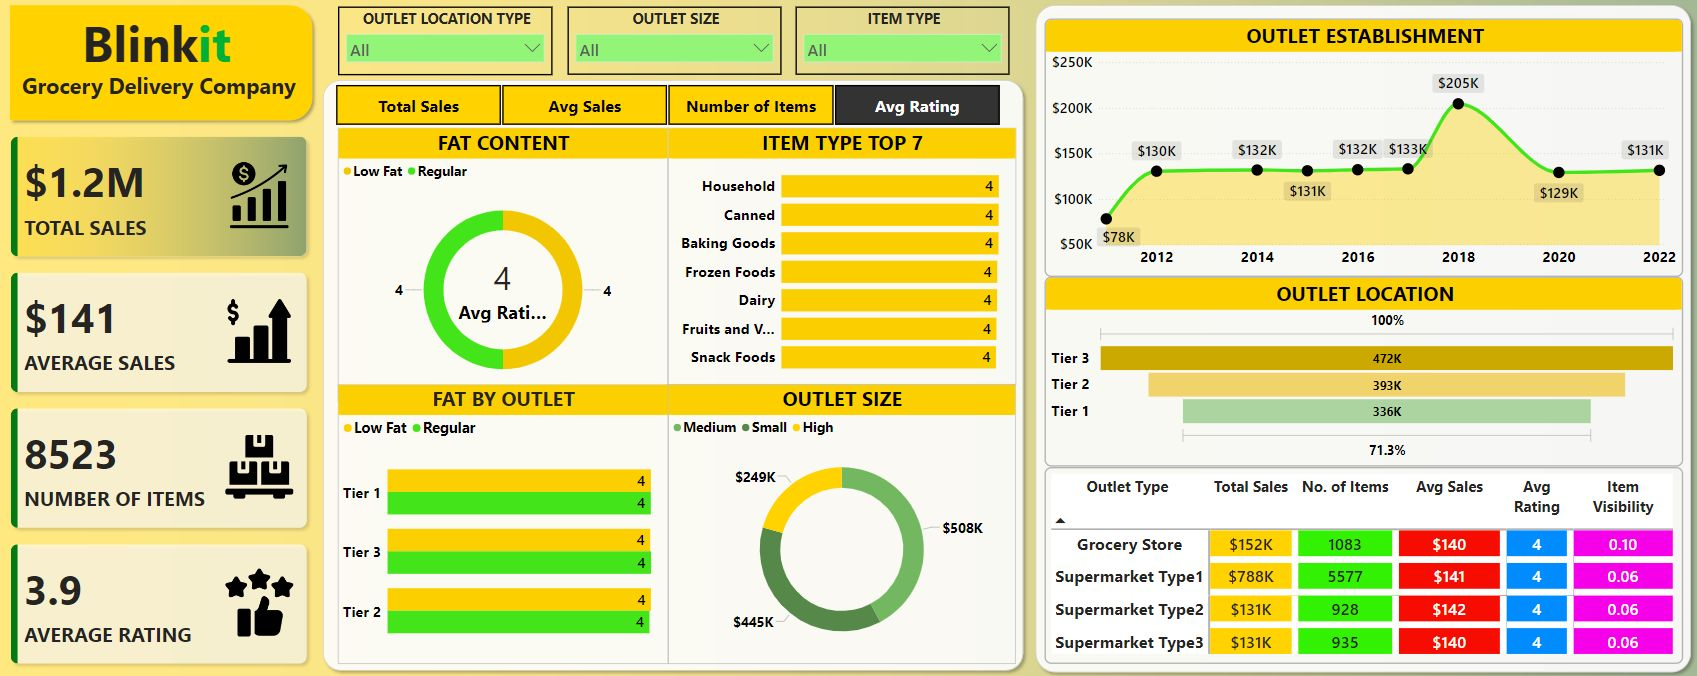

The page's visual inventory and layout, read from the dashboard file:
{"tool":"powerbi","page":{"name":"Page 1","canvas":[2500,1000],"ordinal":0},"visuals":[{"type":"shape","box":[6.6,0,463.9,187.8],"z":0},{"type":"textbox","box":[28.7,8.8,406.5,117.1],"z":1000},{"type":"textbox","box":[28.7,99.4,426.4,57.4],"z":2000},{"type":"cardVisual","fields":{"Data":["BlinkIT Grocery Data.Total Sales","BlinkIT Grocery Data.Avg Sales","BlinkIT Grocery Data.Number of Items","BlinkIT Grocery Data.Avg Rating"]},"box":[0,186.3,470.2,813.3],"z":3000},{"type":"shape","box":[469.1,111,1049.1,887.7],"z":4000},{"type":"donutChart","title":"FAT CONTENT","fields":{"Y":["BlinkIT Grocery Data.Total Sales","BlinkIT Grocery Data.Avg Sales","BlinkIT Grocery Data.Number of Items","BlinkIT Grocery Data.Avg Rating"],"Category":["BlinkIT Grocery Data.Item Fat Content"]},"box":[499.3,190,486,402.1],"z":5000},{"type":"slicer","title":"FAT CONTENT","fields":{"Values":["Metric .Metric "]},"box":[470.6,119.3,1027.3,72.9],"z":6000},{"type":"card","fields":{"Values":["BlinkIT Grocery Data.Total Sales"]},"box":[667.2,371.1,148,110.5],"z":7000},{"type":"clusteredBarChart","title":"FAT BY OUTLET","fields":{"Y":["BlinkIT Grocery Data.Total Sales"],"Category":["BlinkIT Grocery Data.Outlet Location Type"],"Series":["BlinkIT Grocery Data.Item Fat Content"]},"box":[499.3,567.4,486.7,411.1],"z":8000},{"type":"barChart","title":"ITEM TYPE TOP 7","fields":{"Y":["BlinkIT Grocery Data.Total Sales","BlinkIT Grocery Data.Avg Sales","BlinkIT Grocery Data.Number of Items","BlinkIT Grocery Data.Avg Rating"],"Category":["BlinkIT Grocery Data.Item Type"]},"box":[985.3,190,512.5,377.8],"z":9000},{"type":"shape","box":[1517.7,0,983.1,1000.8],"z":10000},{"type":"lineChart","title":"OUTLET ESTABLISHMENT","fields":{"Category":["BlinkIT Grocery Data.Outlet Establishment Year"],"Y":["BlinkIT Grocery Data.Total Sales"]},"box":[1540.9,27.7,940.7,380.8],"z":11000},{"type":"donutChart","title":"OUTLET SIZE","fields":{"Y":["BlinkIT Grocery Data.Total Sales"],"Category":["BlinkIT Grocery Data.Outlet Size"]},"box":[986.1,567.4,511.9,411.1],"z":12000},{"type":"funnel","title":"OUTLET LOCATION","fields":{"Y":["Sum(BlinkIT Grocery Data.Sales)"],"Category":["BlinkIT Grocery Data.Outlet Location Type"]},"box":[1540.9,408.5,940.7,279.9],"z":13000},{"type":"pivotTable","fields":{"Rows":["BlinkIT Grocery Data.Outlet Type"],"Values":["BlinkIT Grocery Data.Total Sales","BlinkIT Grocery Data.Number of Items","BlinkIT Grocery Data.Avg Sales","BlinkIT Grocery Data.Avg Rating","Avg(BlinkIT Grocery Data.Item Visibility)"]},"box":[1540.9,688.5,940.7,290],"z":14000},{"type":"slicer","title":"OUTLET LOCATION TYPE","fields":{"Values":["BlinkIT Grocery Data.Outlet Location Type"]},"box":[499.3,11,315.9,101.6],"z":15000},{"type":"slicer","title":"OUTLET SIZE","fields":{"Values":["BlinkIT Grocery Data.Outlet Size"]},"box":[837.3,10.1,315.2,100.9],"z":16000},{"type":"slicer","title":"ITEM TYPE","fields":{"Values":["BlinkIT Grocery Data.Item Type"]},"box":[1172.7,10.1,315.2,100.9],"z":17000}]}

Visuals, with their boxes in screenshot pixels (x1, y1, x2, y2), scaled from the page's 2500x1000 canvas onto the 1697x676 screenshot:
shape: {"left": 4, "top": 0, "right": 319, "bottom": 127}
textbox: {"left": 19, "top": 6, "right": 295, "bottom": 85}
textbox: {"left": 19, "top": 67, "right": 309, "bottom": 106}
cardVisual - BlinkIT Grocery Data.Total Sales x BlinkIT Grocery Data.Avg Sales: {"left": 0, "top": 126, "right": 319, "bottom": 675}
shape: {"left": 318, "top": 75, "right": 1031, "bottom": 675}
"FAT CONTENT" donutChart: {"left": 339, "top": 128, "right": 669, "bottom": 400}
"FAT CONTENT" slicer: {"left": 319, "top": 81, "right": 1017, "bottom": 130}
card - BlinkIT Grocery Data.Total Sales: {"left": 453, "top": 251, "right": 553, "bottom": 326}
"FAT BY OUTLET" clusteredBarChart: {"left": 339, "top": 384, "right": 669, "bottom": 661}
"ITEM TYPE TOP 7" barChart: {"left": 669, "top": 128, "right": 1017, "bottom": 384}
shape: {"left": 1030, "top": 0, "right": 1696, "bottom": 675}
"OUTLET ESTABLISHMENT" lineChart: {"left": 1046, "top": 19, "right": 1685, "bottom": 276}
"OUTLET SIZE" donutChart: {"left": 669, "top": 384, "right": 1017, "bottom": 661}
"OUTLET LOCATION" funnel: {"left": 1046, "top": 276, "right": 1685, "bottom": 465}
pivotTable - BlinkIT Grocery Data.Outlet Type x BlinkIT Grocery Data.Total Sales: {"left": 1046, "top": 465, "right": 1685, "bottom": 661}
"OUTLET LOCATION TYPE" slicer: {"left": 339, "top": 7, "right": 553, "bottom": 76}
"OUTLET SIZE" slicer: {"left": 568, "top": 7, "right": 782, "bottom": 75}
"ITEM TYPE" slicer: {"left": 796, "top": 7, "right": 1010, "bottom": 75}
